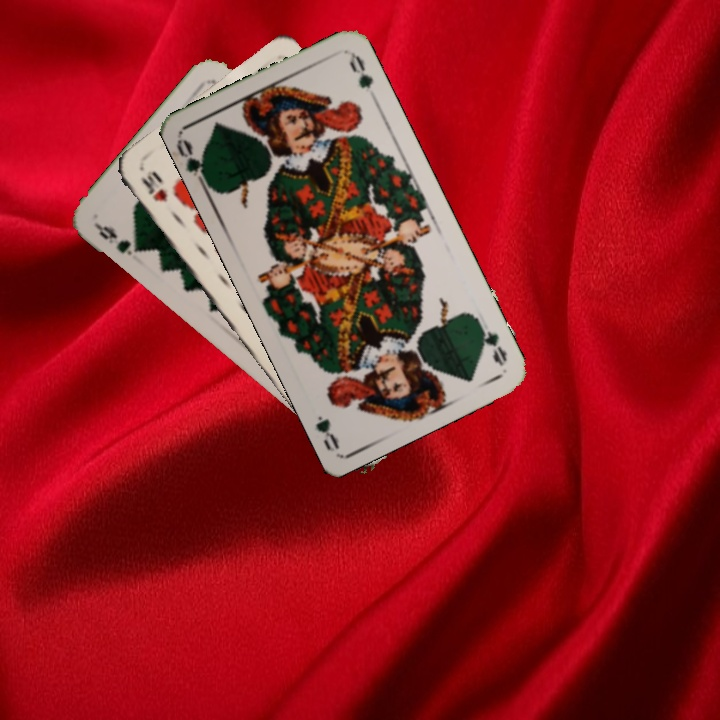G9: (91, 219, 147, 259)
GO: (173, 135, 212, 191), (473, 315, 510, 369)
H10: (137, 167, 171, 205)
